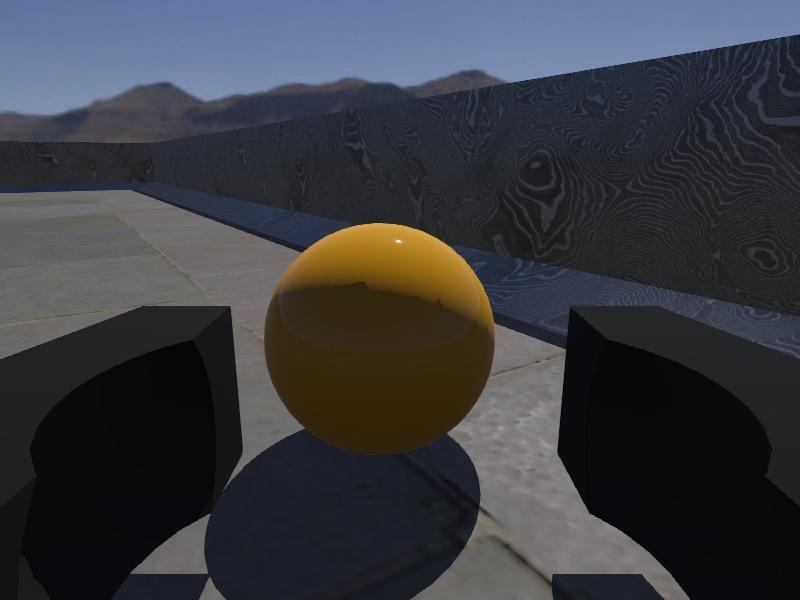orange ball: (263, 221, 496, 458)
